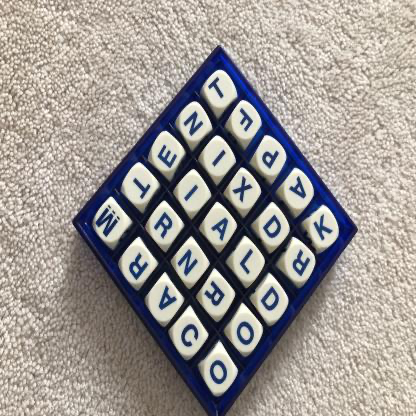a: (150, 282, 180, 323), (285, 172, 316, 211), (206, 209, 234, 246)
c: (174, 316, 204, 357)
d: (258, 282, 288, 323), (260, 209, 288, 247)
e: (152, 137, 182, 172)
f: (232, 104, 260, 140)
i: (178, 176, 208, 214), (205, 141, 235, 177)
k: (309, 212, 339, 249)
l: (234, 243, 263, 283)
m: (96, 203, 127, 244)
n: (176, 245, 206, 283), (181, 107, 210, 142)
o: (204, 354, 235, 395), (232, 312, 262, 353)
p: (258, 139, 286, 176)
r: (203, 278, 234, 317), (151, 207, 180, 246), (123, 247, 152, 286), (286, 246, 315, 284)
t: (125, 167, 155, 205), (207, 74, 235, 110)
x: (231, 173, 259, 211)
